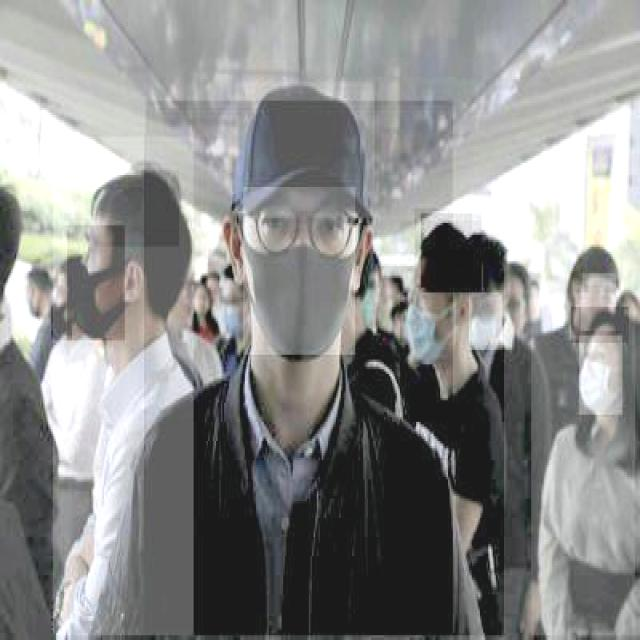face_mask: (243, 187, 355, 355), (67, 226, 125, 340), (405, 273, 456, 360), (580, 336, 622, 414), (469, 292, 502, 350), (50, 278, 72, 340), (219, 290, 243, 336)
face_nomask: (581, 273, 616, 331)
glasses: (254, 200, 357, 258)
head_nohelmet: (233, 81, 374, 220), (83, 170, 179, 249), (421, 214, 482, 292), (414, 208, 472, 288), (571, 307, 629, 343), (582, 240, 620, 290)
person: (144, 100, 453, 638), (51, 137, 194, 638), (398, 220, 504, 638), (530, 292, 635, 638)
